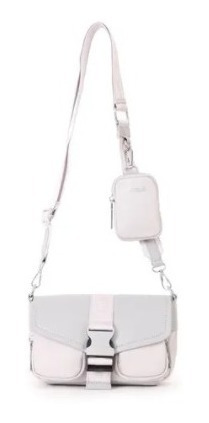cartera: (27, 21, 178, 391)
